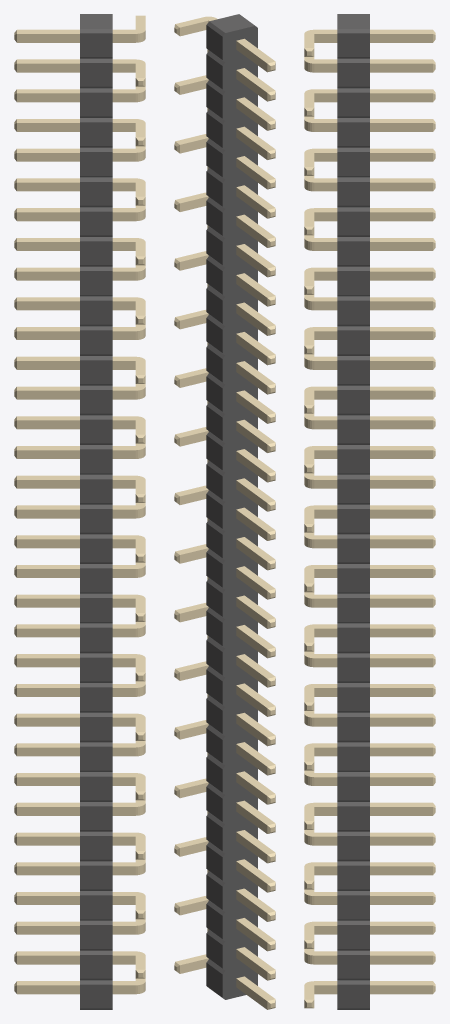
Rendered from PinHeader_1x33_P1.00mm_Vertical_SMD_Pin1Left.glb.
3 renders of one model, left to right at view 1: azimuth 90°, elevation 25°; view 2: azimuth 210°, elevation 25°; view 3: azimuth 270°, elevation 25°, orthographic.
Visible parts, largest first — view 1: Shape_IndexedFaceSet.019, Shape_IndexedFaceSet.043, Shape_IndexedFaceSet.061, Shape_IndexedFaceSet.067, Shape_IndexedFaceSet.085, Shape_IndexedFaceSet.091, Shape_IndexedFaceSet.109, Shape_IndexedFaceSet.115, Shape_IndexedFaceSet.127, Shape_IndexedFaceSet.133, Shape_IndexedFaceSet.151, Shape_IndexedFaceSet.157 (+55 smaller); view 2: Shape_IndexedFaceSet.004, Shape_IndexedFaceSet.001, Shape_IndexedFaceSet.010, Shape_IndexedFaceSet.016, Shape_IndexedFaceSet.022, Shape_IndexedFaceSet.034, Shape_IndexedFaceSet.064, Shape_IndexedFaceSet.070, Shape_IndexedFaceSet.106, Shape_IndexedFaceSet.112, Shape_IndexedFaceSet.124, Shape_IndexedFaceSet.130 (+89 smaller); view 3: Shape_IndexedFaceSet.016, Shape_IndexedFaceSet.040, Shape_IndexedFaceSet.058, Shape_IndexedFaceSet.064, Shape_IndexedFaceSet.082, Shape_IndexedFaceSet.088, Shape_IndexedFaceSet.106, Shape_IndexedFaceSet.112, Shape_IndexedFaceSet.124, Shape_IndexedFaceSet.130, Shape_IndexedFaceSet.148, Shape_IndexedFaceSet.154 (+55 smaller).
Part boxes in pixels (x1,y1,x2,y2): Shape_IndexedFaceSet.019: [80, 92, 112, 116]; Shape_IndexedFaceSet.043: [80, 211, 112, 235]; Shape_IndexedFaceSet.061: [80, 300, 112, 324]; Shape_IndexedFaceSet.067: [80, 330, 112, 354]; Shape_IndexedFaceSet.085: [80, 419, 112, 443]; Shape_IndexedFaceSet.091: [80, 449, 112, 473]; Shape_IndexedFaceSet.109: [80, 538, 112, 562]; Shape_IndexedFaceSet.115: [80, 568, 112, 592]; Shape_IndexedFaceSet.127: [80, 627, 112, 651]; Shape_IndexedFaceSet.133: [80, 657, 112, 681]; Shape_IndexedFaceSet.151: [80, 746, 112, 770]; Shape_IndexedFaceSet.157: [80, 776, 112, 800]; Shape_IndexedFaceSet.004: [222, 26, 257, 999]; Shape_IndexedFaceSet.001: [209, 14, 254, 32]; Shape_IndexedFaceSet.010: [206, 54, 222, 89]; Shape_IndexedFaceSet.016: [206, 83, 222, 118]; Shape_IndexedFaceSet.022: [206, 113, 222, 147]; Shape_IndexedFaceSet.034: [206, 171, 222, 206]; Shape_IndexedFaceSet.064: [206, 318, 222, 352]; Shape_IndexedFaceSet.070: [206, 347, 222, 382]; Shape_IndexedFaceSet.106: [206, 523, 222, 557]; Shape_IndexedFaceSet.112: [206, 552, 222, 587]; Shape_IndexedFaceSet.124: [206, 611, 222, 645]; Shape_IndexedFaceSet.130: [206, 640, 222, 675]; Shape_IndexedFaceSet.016: [337, 92, 369, 116]; Shape_IndexedFaceSet.040: [337, 211, 369, 235]; Shape_IndexedFaceSet.058: [337, 300, 369, 324]; Shape_IndexedFaceSet.064: [337, 330, 369, 354]; Shape_IndexedFaceSet.082: [337, 419, 369, 443]; Shape_IndexedFaceSet.088: [337, 449, 369, 473]; Shape_IndexedFaceSet.106: [337, 538, 369, 562]; Shape_IndexedFaceSet.112: [337, 568, 369, 592]; Shape_IndexedFaceSet.124: [337, 627, 369, 651]; Shape_IndexedFaceSet.130: [337, 657, 369, 681]; Shape_IndexedFaceSet.148: [337, 746, 369, 770]; Shape_IndexedFaceSet.154: [337, 776, 369, 800].
Size of the model in its own units: 0.984 by 12.99 by 1.58.
